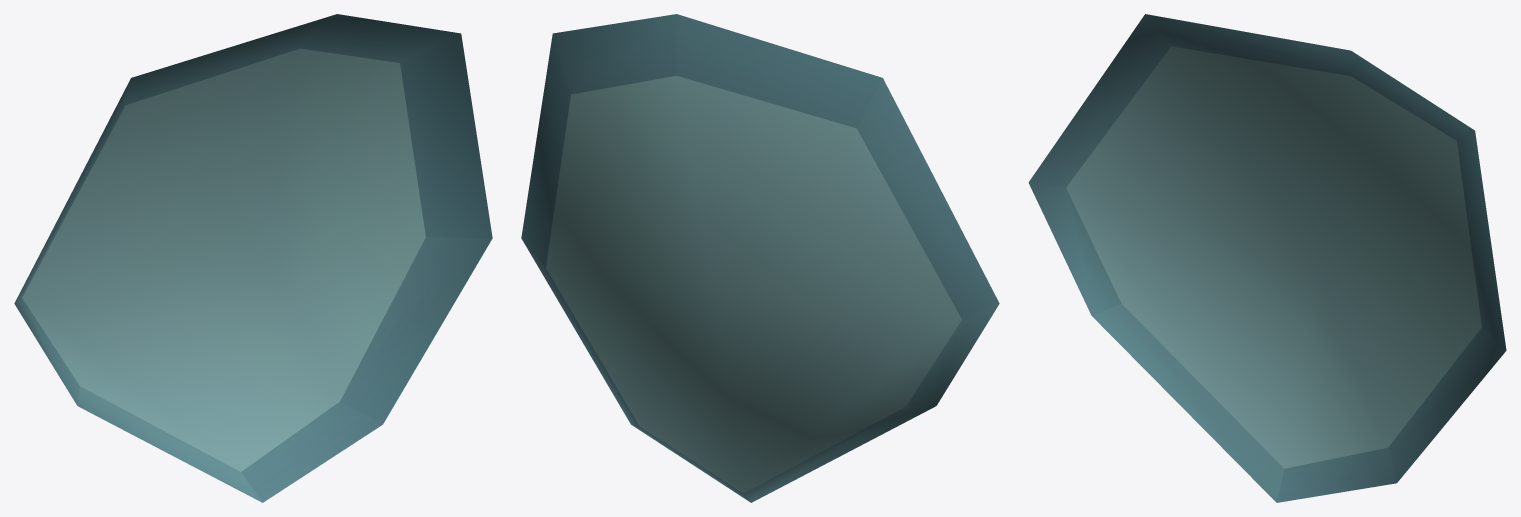
The model's file is Ground Stone 01.FBX.
3 views of the same model, side by side, from view 1: azimuth 30°, elevation 25°; view 2: azimuth 150°, elevation 25°; view 3: azimuth 330°, elevation 25° (orthographic).
Visible parts, largest first — view 1: Ground Stone 01; view 2: Ground Stone 01; view 3: Ground Stone 01.
Boxes of the visible parts, x1,y1,x2,y2 form: Ground Stone 01: [14, 14, 492, 502]; Ground Stone 01: [521, 14, 999, 502]; Ground Stone 01: [1028, 14, 1506, 502].
Size of the model in its own units: 233 by 18.11 by 219.
Materials: 1 (1 with a texture image).
